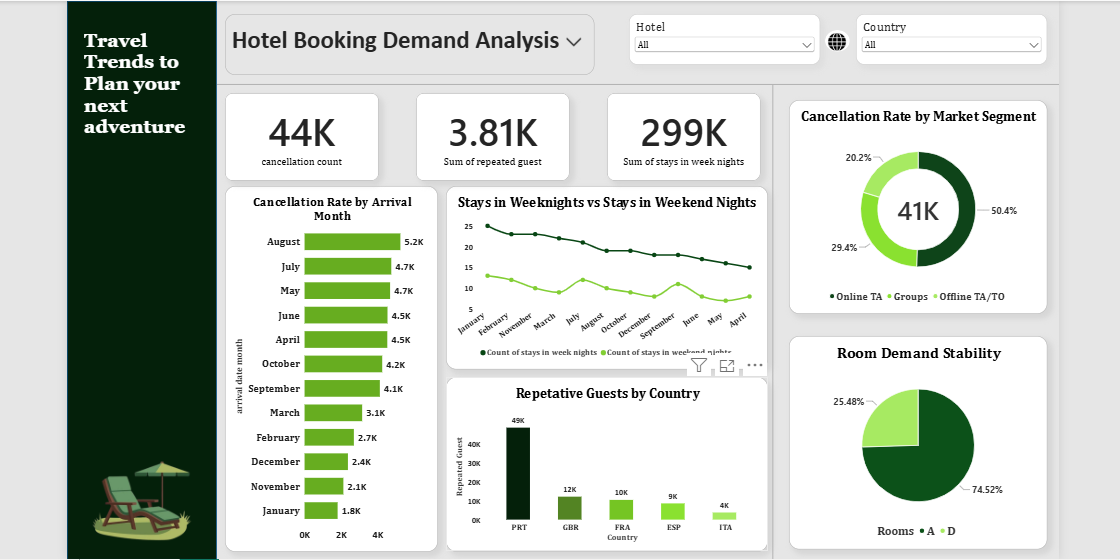

This screenshot's page, from the dashboard's own definition file:
{"tool":"powerbi","page":{"name":"Dashboard","canvas":[1920,1080],"ordinal":0},"visuals":[{"type":"shape","box":[0,0,289.8,1080.9],"z":0},{"type":"shape","box":[290,145,1630.2,32.8],"z":1000},{"type":"shape","box":[1355,162.5,22.5,917.5],"z":2000},{"type":"textbox","box":[306,25,715,118],"z":3000},{"type":"image","box":[958,46,48,66],"z":4000},{"type":"barChart","title":"Cancellation Rate by Arrival Month","fields":{"Category":["Hotel Booking.arrival date month"],"Y":["Hotel Booking.cancellation count"]},"box":[306.1,357.2,412.4,708],"z":5000},{"type":"lineChart","title":"Stays in Weeknights vs Stays in Weekend Nights","fields":{"Category":["Hotel Booking.arrival date month"],"Y":["Count(Hotel Booking.stays in week nights)","Count(Hotel Booking.stays in weekend nights)"]},"box":[733.5,357.2,622.9,355],"z":6000},{"type":"columnChart","title":"Repetative Guests by Country","fields":{"Category":["Hotel Booking.country"],"Y":["CountNonNull(Hotel Booking.repeated guest)"]},"box":[733.5,727.1,622.9,338],"z":7000},{"type":"donutChart","title":"Cancellation Rate by Market Segment","fields":{"Category":["Hotel Booking.market segment"],"Y":["Hotel Booking.cancellation count"]},"box":[1397.5,192.5,500,414],"z":8000},{"type":"pieChart","title":"Room Demand Stability","fields":{"Category":["Hotel Booking.assigned_room_type"],"Y":["CountNonNull(Hotel Booking.previous_bookings_not_canceled)"]},"box":[1397.5,647.5,500,413],"z":9000},{"type":"cardVisual","fields":{"Data":["Hotel Booking.cancellation count"]},"box":[305,177.5,297.5,170],"z":10000},{"type":"cardVisual","fields":{"Data":["Sum(Hotel Booking.repeated guest)"]},"box":[675,177.5,297,170],"z":11000},{"type":"cardVisual","fields":{"Data":["Sum(Hotel Booking.stays in week nights)"]},"box":[1045,177.5,297,170],"z":12000},{"type":"slicer","fields":{"Values":["Hotel Booking.country"]},"box":[1527.5,25,370,97.5],"z":13000},{"type":"slicer","fields":{"Values":["Hotel Booking.hotel"]},"box":[1087.5,25,370,97.5],"z":14000},{"type":"shape","box":[1468,57,48,42],"z":15000},{"type":"image","box":[1460,57.5,62,42],"z":16000},{"type":"textbox","box":[32.5,55,225,215],"z":17000},{"type":"image","box":[0,856,290,224],"z":18000}]}

Visuals, with their boxes on the page's 1920x1080 design canvas (x1, y1, x2, y2). These are canvas units, not pixel positions in the 1120x560 screenshot, which may show the page scaled, cropped or inside an application window:
shape: [x1=0, y1=0, x2=290, y2=1081]
shape: [x1=290, y1=145, x2=1920, y2=178]
shape: [x1=1355, y1=162, x2=1378, y2=1080]
textbox: [x1=306, y1=25, x2=1021, y2=143]
image: [x1=958, y1=46, x2=1006, y2=112]
"Cancellation Rate by Arrival Month" barChart: [x1=306, y1=357, x2=718, y2=1065]
"Stays in Weeknights vs Stays in Weekend Nights" lineChart: [x1=734, y1=357, x2=1356, y2=712]
"Repetative Guests by Country" columnChart: [x1=734, y1=727, x2=1356, y2=1065]
"Cancellation Rate by Market Segment" donutChart: [x1=1398, y1=192, x2=1898, y2=606]
"Room Demand Stability" pieChart: [x1=1398, y1=648, x2=1898, y2=1060]
cardVisual - Hotel Booking.cancellation count: [x1=305, y1=178, x2=602, y2=348]
cardVisual - Sum(Hotel Booking.repeated guest): [x1=675, y1=178, x2=972, y2=348]
cardVisual - Sum(Hotel Booking.stays in week nights): [x1=1045, y1=178, x2=1342, y2=348]
slicer - Hotel Booking.country: [x1=1528, y1=25, x2=1898, y2=122]
slicer - Hotel Booking.hotel: [x1=1088, y1=25, x2=1458, y2=122]
shape: [x1=1468, y1=57, x2=1516, y2=99]
image: [x1=1460, y1=58, x2=1522, y2=100]
textbox: [x1=32, y1=55, x2=258, y2=270]
image: [x1=0, y1=856, x2=290, y2=1080]
